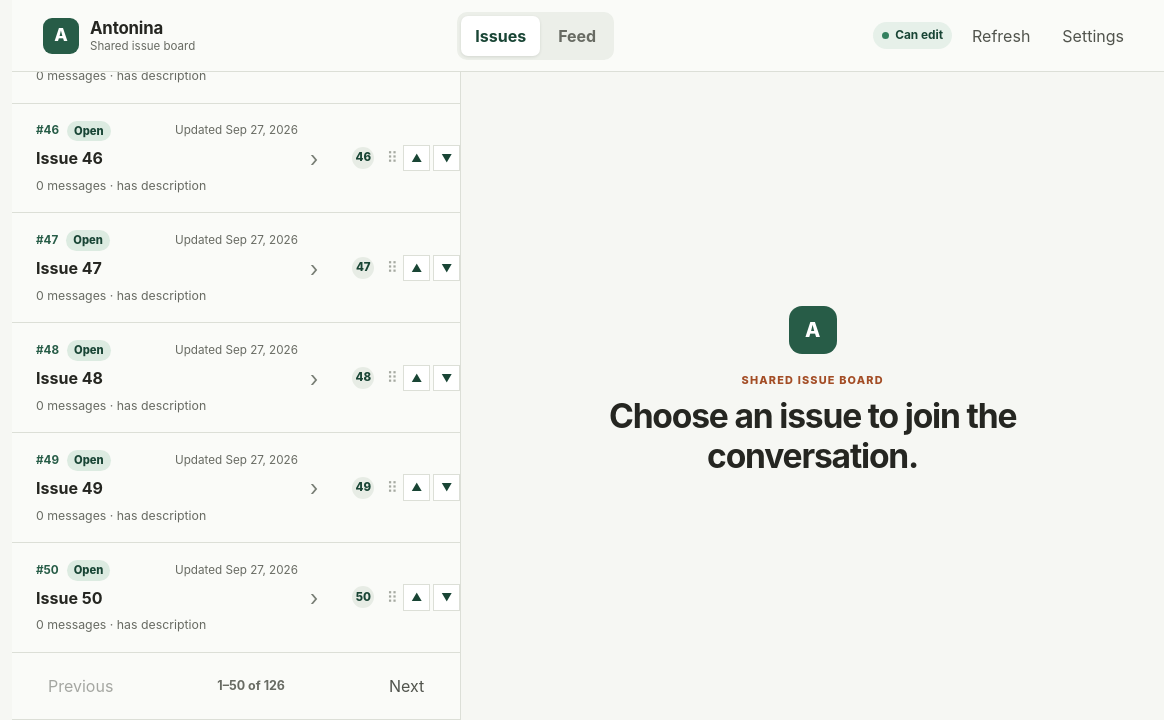
Test case: the issues list, paginated › walks forwards and backwards through the pages without losing or repeating a row
(page scrolled)
Step 1. Click the button with aria-label "Next page" → (407, 686), box x1=377 y1=665 x2=436 y2=707
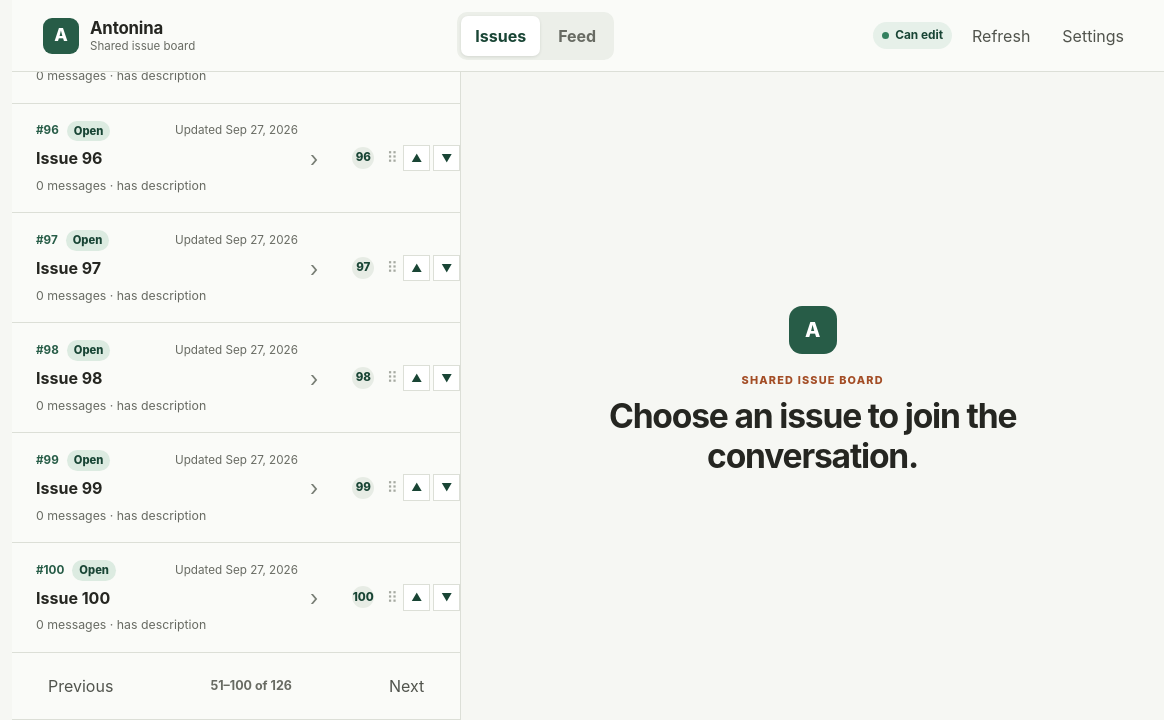
Now the message with class "issue-page-range" reads "51–100 of 126", box x1=210 y1=678 x2=292 y2=693
Now the button with aria-label "Previous page" is enabled, box x1=36 y1=665 x2=125 y2=707
Step 2. Click the button with aria-label "Next page" → (407, 686), box x1=377 y1=665 x2=436 y2=707
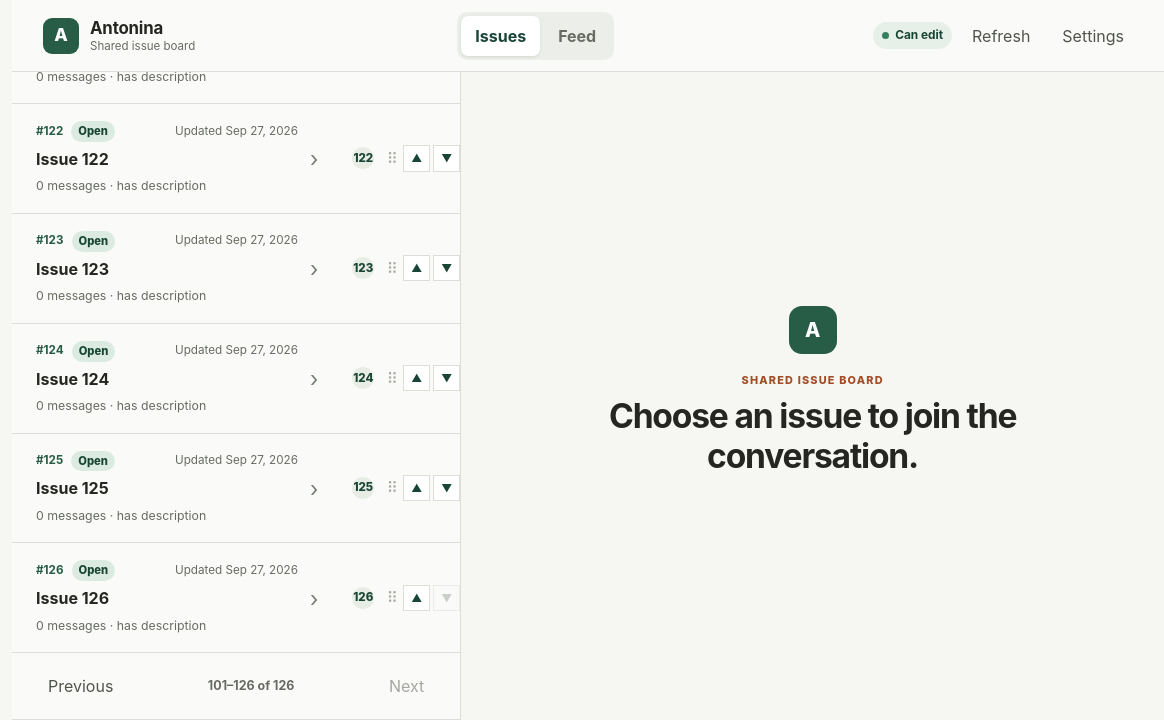
Now the message with class "issue-page-range" reads "101–126 of 126", box x1=208 y1=678 x2=294 y2=693
Now the button with aria-label "Next page" is disabled, box x1=377 y1=665 x2=436 y2=707
Step 3. Click the button with aria-label "Previous page" → (81, 686), box x1=36 y1=665 x2=125 y2=707
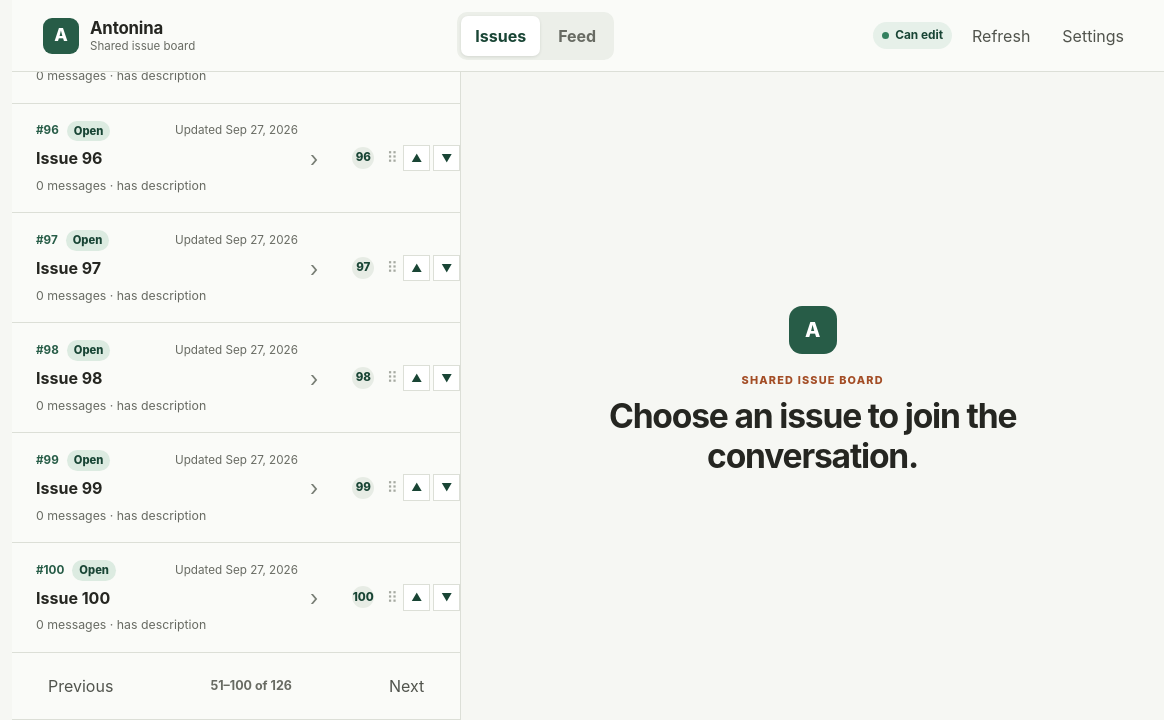
Now the message with class "issue-page-range" reads "51–100 of 126", box x1=210 y1=678 x2=292 y2=693
Step 4. Click the button with aria-label "Previous page" → (81, 686), box x1=36 y1=665 x2=125 y2=707
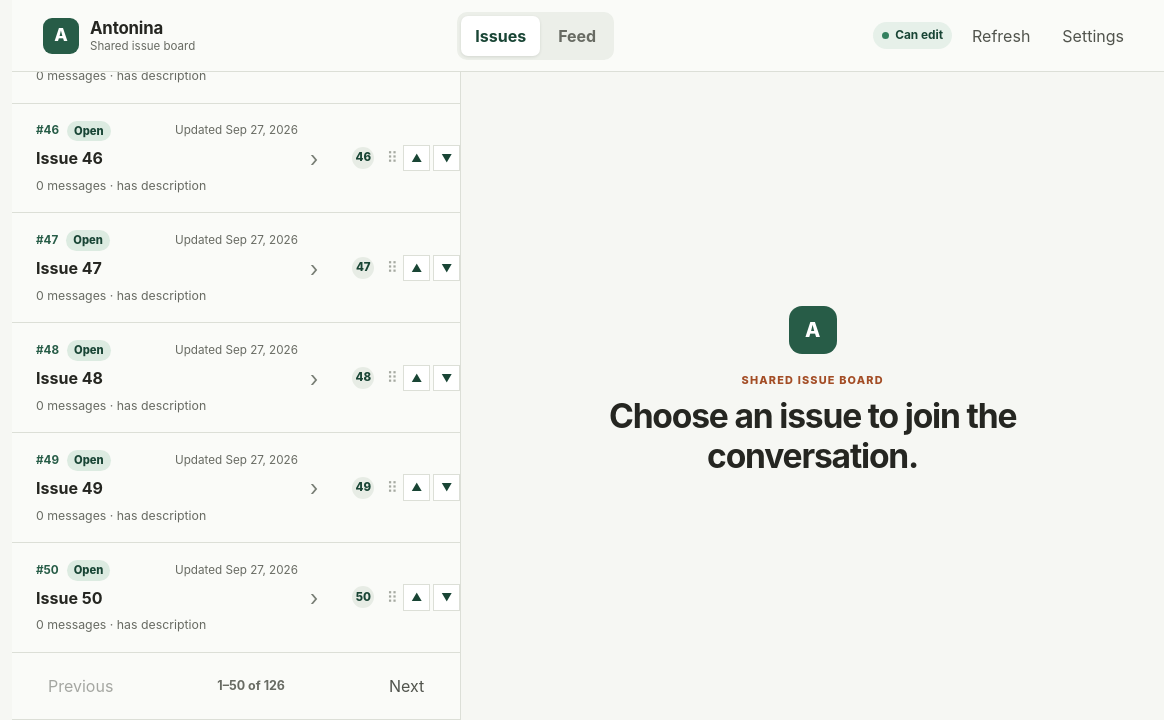
Now the message with class "issue-page-range" reads "1–50 of 126", box x1=217 y1=678 x2=285 y2=693
Now the button with aria-label "Previous page" is disabled, box x1=36 y1=665 x2=125 y2=707
